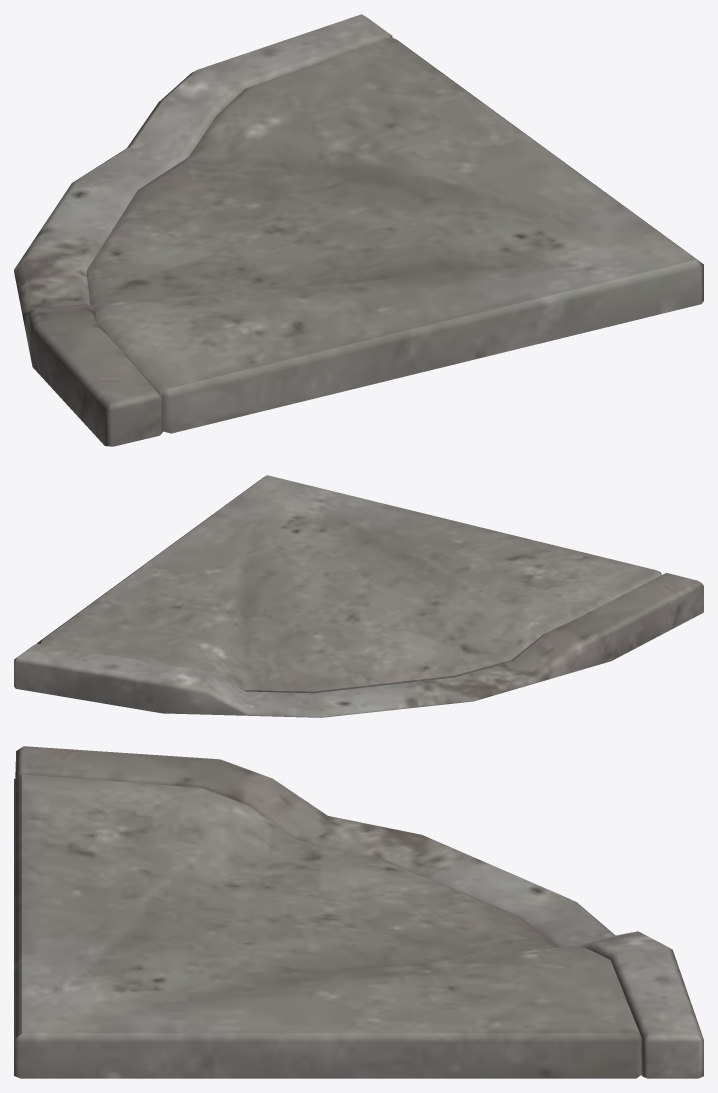
File: SidewalkCornerSmallWalk.glb
The picture shows the model from 3 angles, top to bottom: view 1: azimuth 30°, elevation 25°; view 2: azimuth 150°, elevation 25°; view 3: azimuth 270°, elevation 25°; orthographic projection. The views are drawn at different scales.
Parts seen in each view (by area): view 1: SidewalkCurb_Small5_SidewalkMat_0; view 2: SidewalkCurb_Small5_SidewalkMat_0; view 3: SidewalkCurb_Small5_SidewalkMat_0.
Part boxes in pixels (x1=…): SidewalkCurb_Small5_SidewalkMat_0: x1=14, y1=14, x2=703, y2=446; SidewalkCurb_Small5_SidewalkMat_0: x1=14, y1=475, x2=703, y2=717; SidewalkCurb_Small5_SidewalkMat_0: x1=14, y1=746, x2=703, y2=1078.
Bounding box in the file's own units: 2.23 × 0.1494 × 2.21.
Materials: 1 (1 with a texture image).
